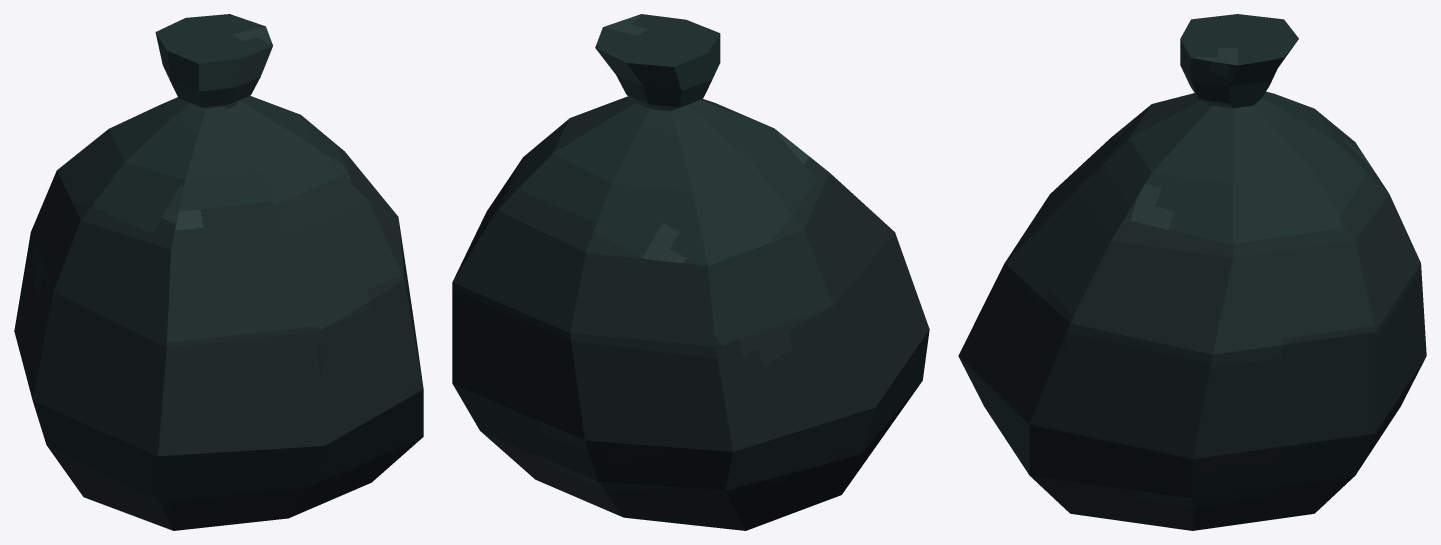
File: trash bag.gltf
3 renders of one model, left to right at view 1: azimuth 30°, elevation 25°; view 2: azimuth 150°, elevation 25°; view 3: azimuth 270°, elevation 25°, orthographic. The views are drawn at different scales.
Parts seen in each view (by area): view 1: cuboid; view 2: cuboid; view 3: cuboid.
Part boxes in pixels (x1,y1,x2,y2): cuboid: (14, 14, 423, 530); cuboid: (452, 14, 929, 530); cuboid: (958, 14, 1426, 530).
Size of the model in its own units: 1.41 by 1.47 by 1.44.
1 material, 1 textured.
